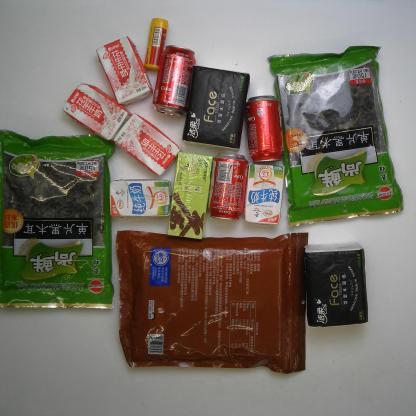Candy: (144, 17, 169, 72)
Dried Food: (116, 230, 309, 374), (266, 45, 405, 228), (0, 128, 116, 309)
Drink: (152, 45, 197, 116), (208, 152, 249, 221), (246, 95, 284, 164)
Instant Drink: (167, 152, 213, 240)
Milk: (113, 113, 182, 177), (62, 83, 133, 142), (96, 35, 154, 107), (244, 163, 285, 226), (109, 179, 172, 218)
Tissue: (178, 64, 250, 152), (305, 242, 369, 328)
